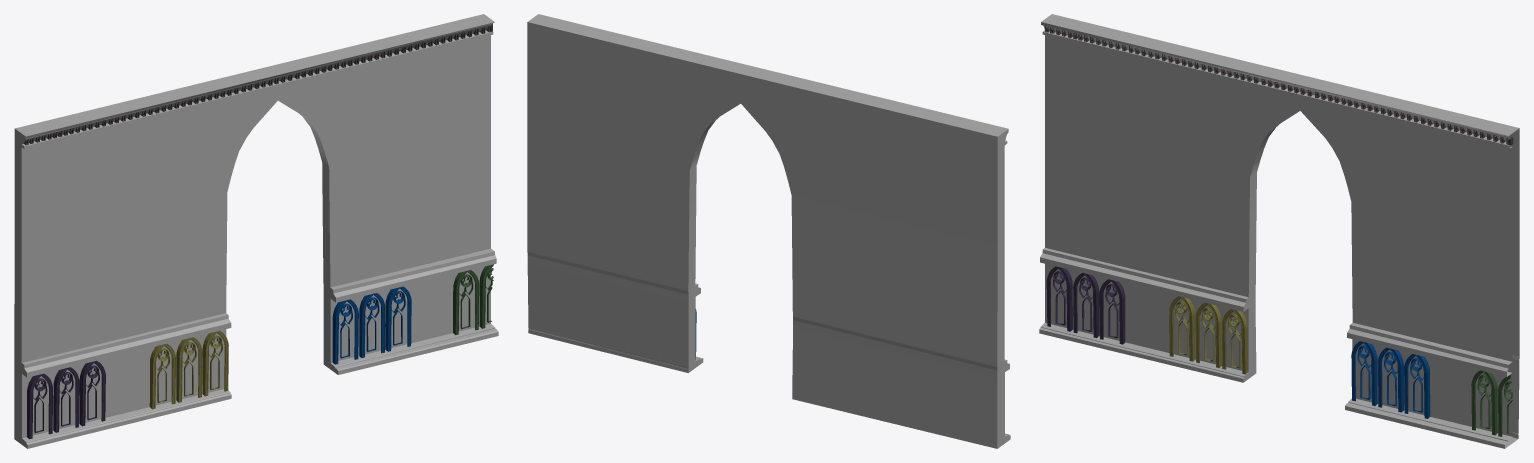
The model's file is WallBedroomRight.fbx.
The picture shows the model from 3 angles, left to right: view 1: azimuth 30°, elevation 25°; view 2: azimuth 150°, elevation 25°; view 3: azimuth 330°, elevation 25°; orthographic projection.
Visible parts, largest first — view 1: wall_long_group_low; view 2: wall_long_group_low; view 3: wall_long_group_low.
Boxes of the visible parts, x1,y1,x2,y2 form: wall_long_group_low: (14, 14, 498, 448); wall_long_group_low: (527, 14, 1010, 448); wall_long_group_low: (1039, 14, 1519, 448).
Size of the model in its own units: 7.76 by 4.92 by 0.4398.
